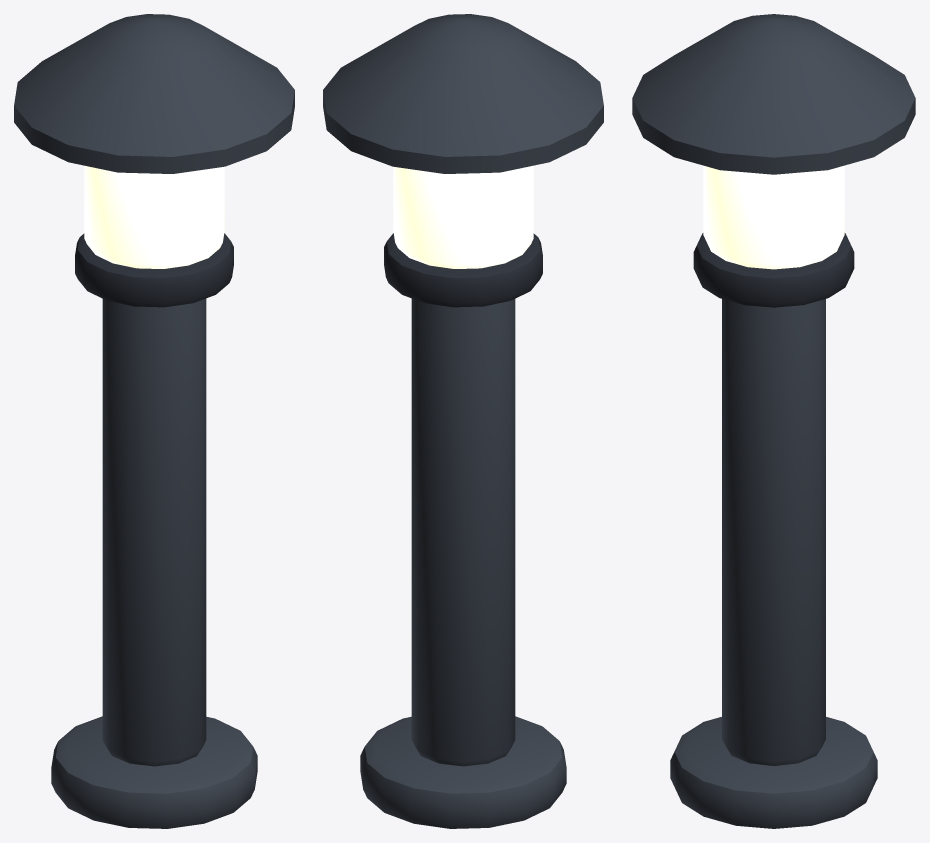
The model's file is luminaria_jardim.glb.
3 views of the same model, side by side, from view 1: azimuth 30°, elevation 25°; view 2: azimuth 150°, elevation 25°; view 3: azimuth 270°, elevation 25° (orthographic).
Parts seen in each view (by area): view 1: luminaria_jardim; view 2: luminaria_jardim; view 3: luminaria_jardim.
Part boxes in pixels (x1,y1,x2,y2): luminaria_jardim: (14, 14, 294, 828); luminaria_jardim: (323, 14, 603, 828); luminaria_jardim: (632, 14, 915, 828).
Size of the model in its own units: 0.3 by 0.9 by 0.3.
Materials: 2 (1 with a texture image).
